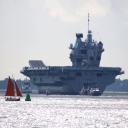Portanaves: (21, 13, 127, 97)
